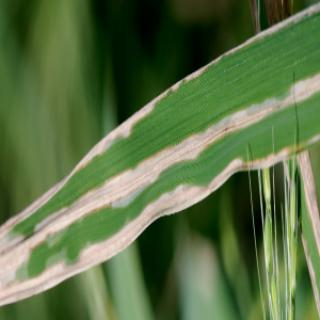Hawar-Daun: (0, 184, 80, 312), (129, 101, 202, 231), (78, 136, 138, 276), (195, 105, 284, 190), (275, 69, 320, 175)
